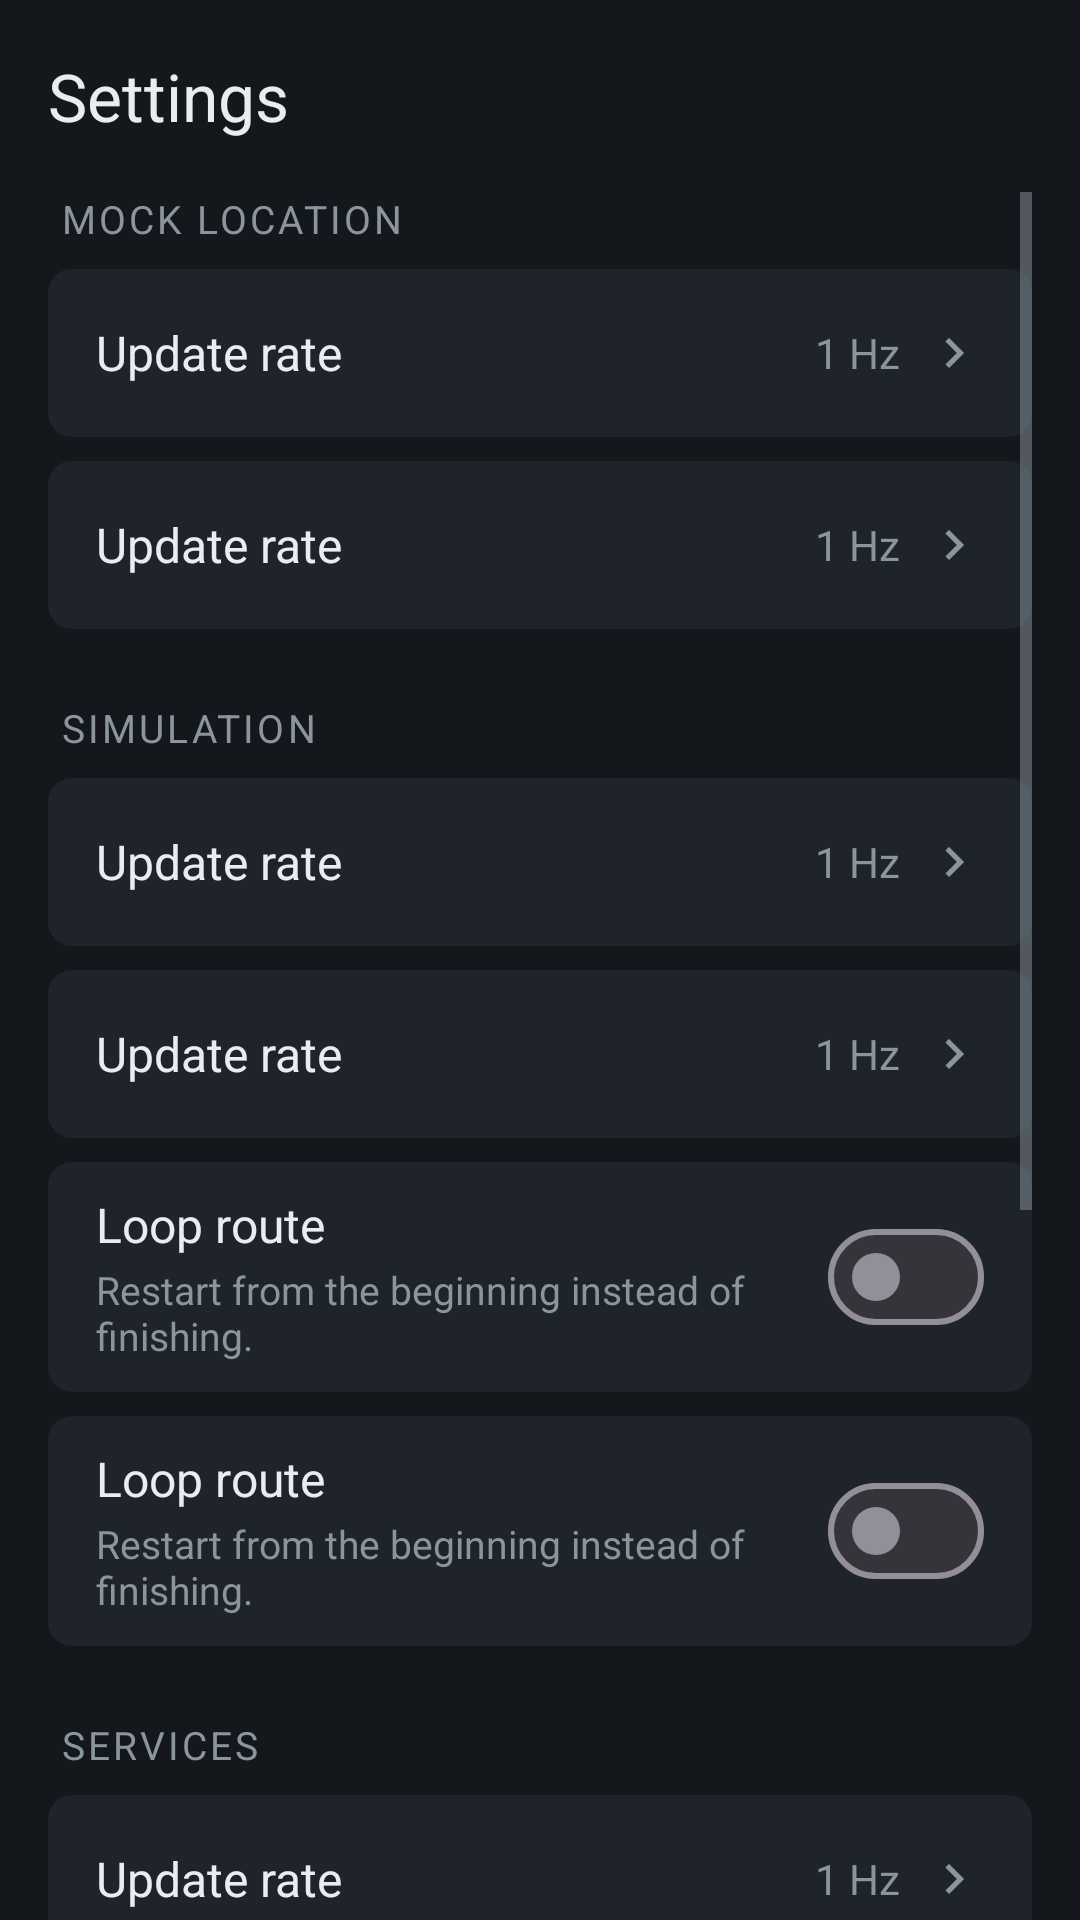

Named icons in this screenshot (1080px x 1920px) and their centers, point (x, y):
chevron right: point (954, 353), point (954, 545), point (954, 862), point (954, 1054), point (954, 1879)
